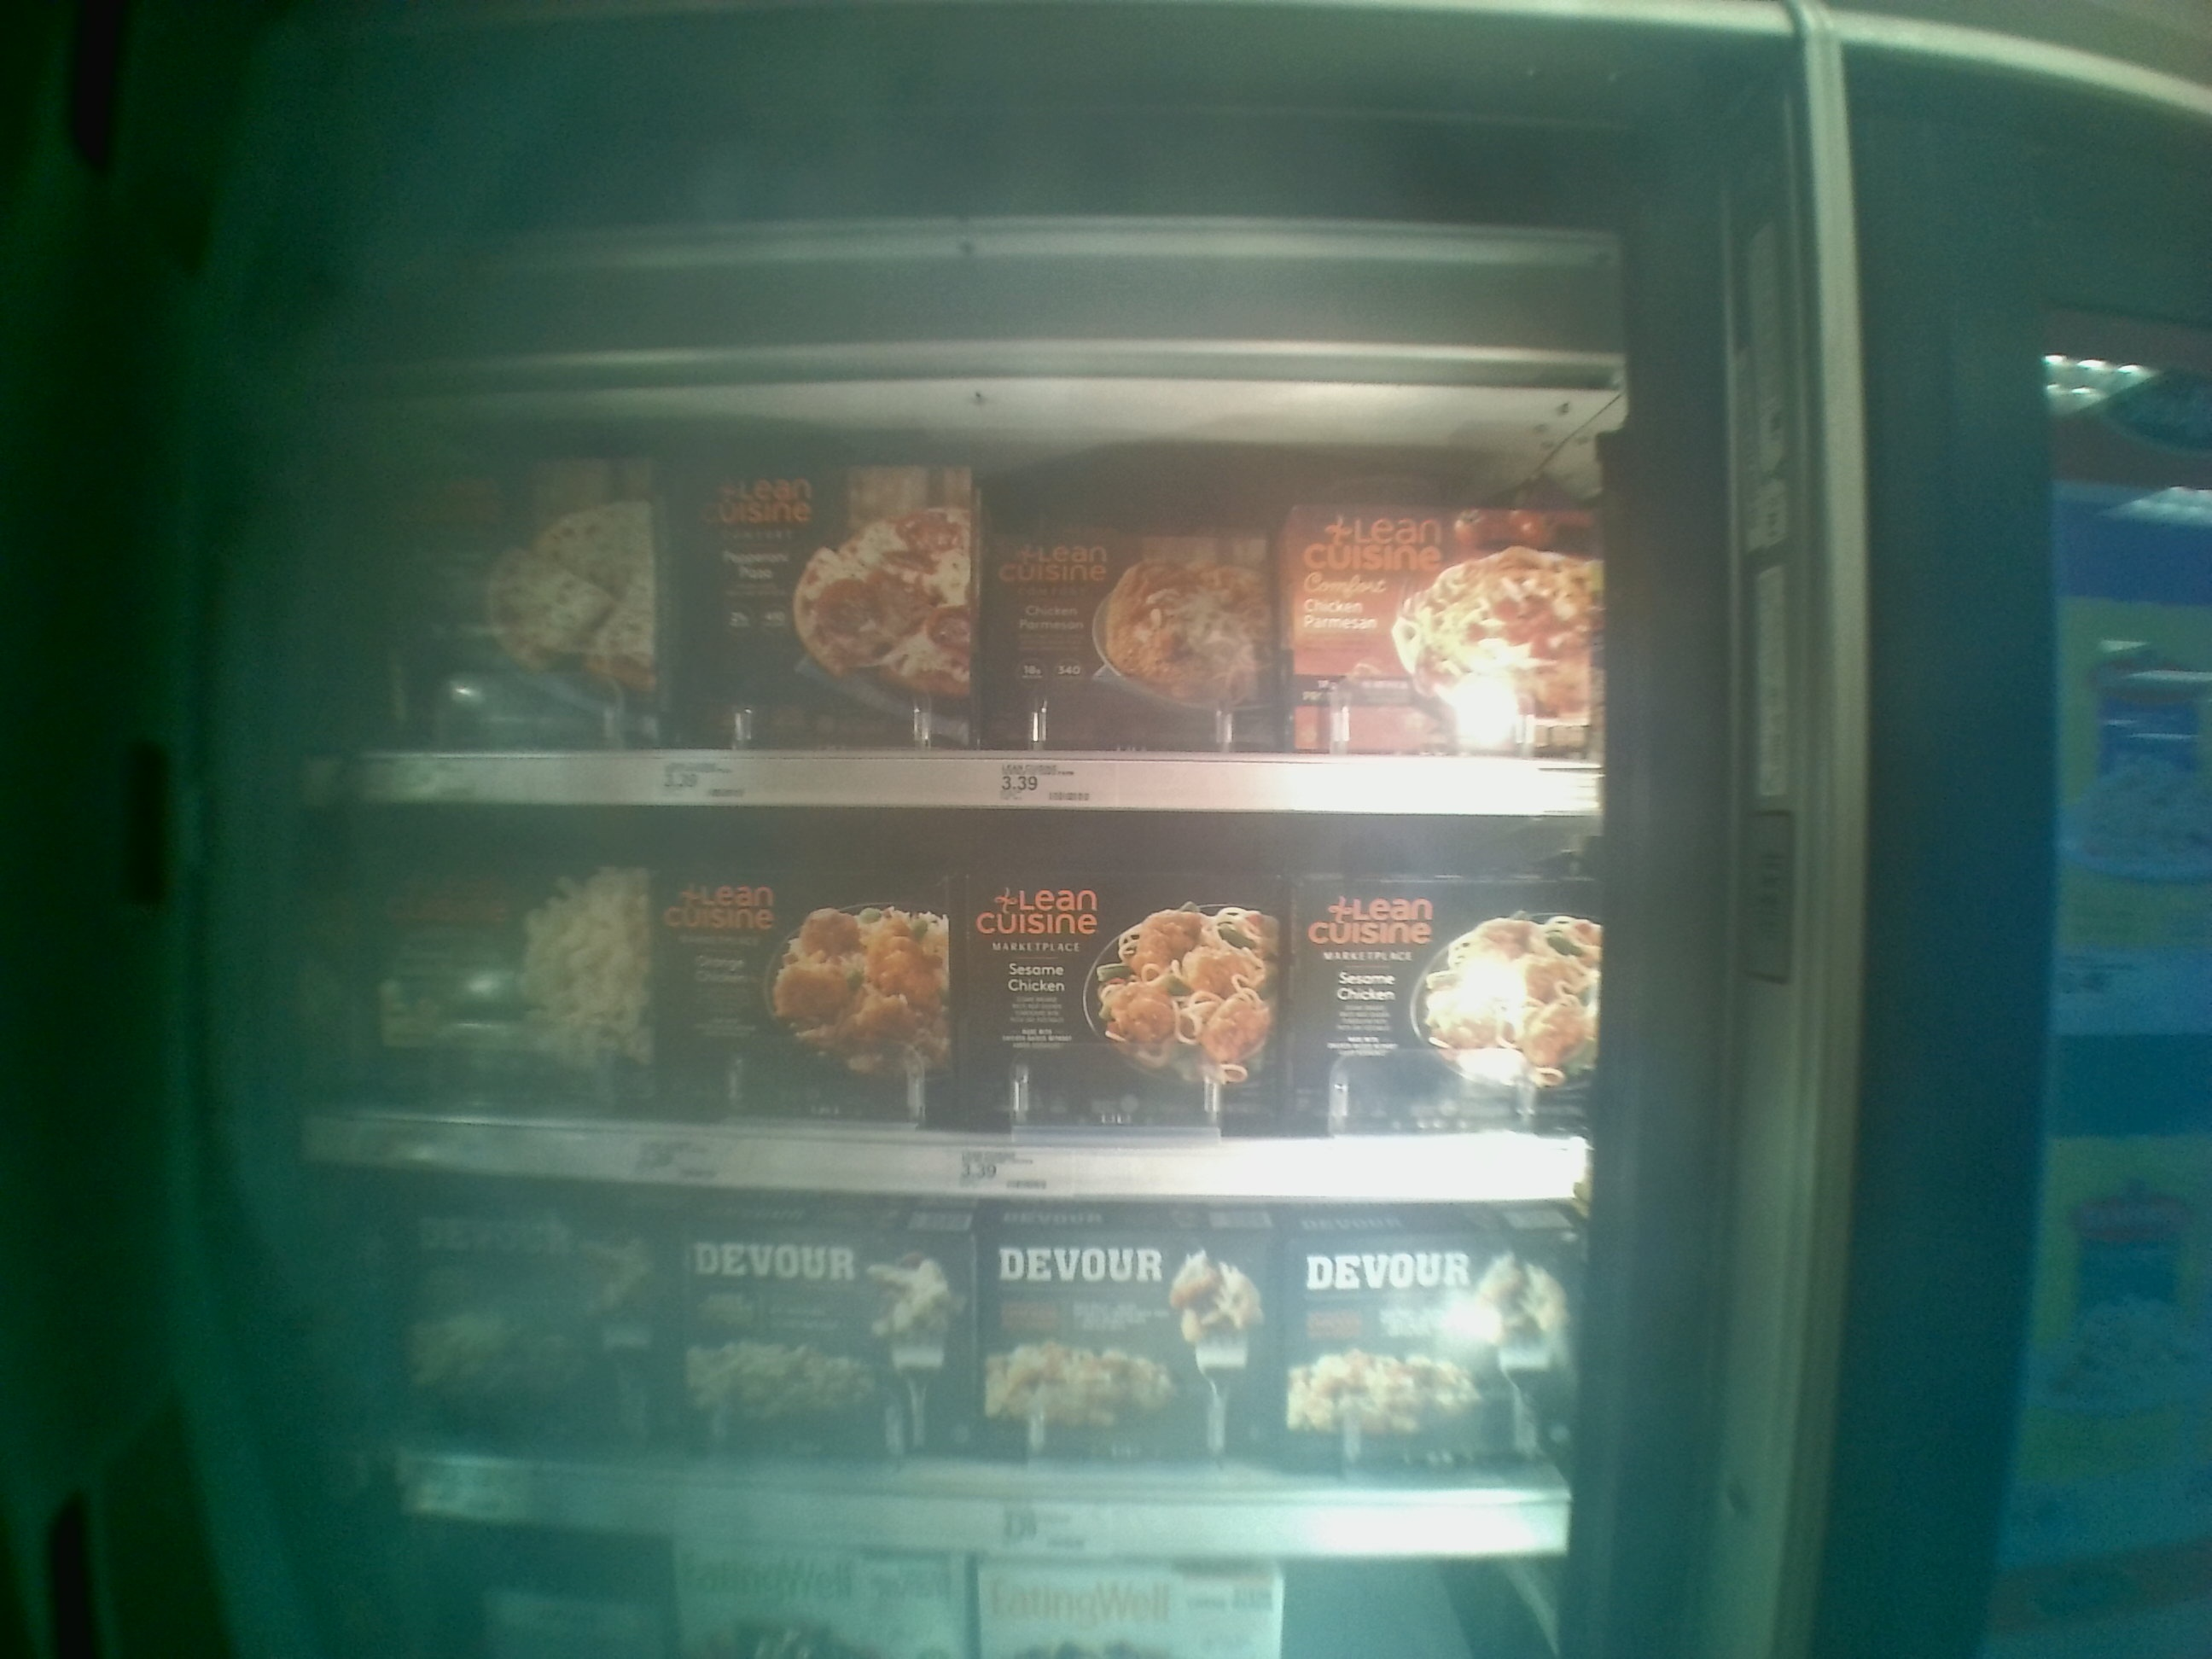pizza: (688, 457, 988, 748), (954, 871, 1277, 1121), (653, 863, 968, 1115), (380, 462, 664, 732), (1280, 505, 1597, 746), (369, 847, 648, 1108), (1277, 1234, 1576, 1466), (1301, 885, 1601, 1114), (685, 1220, 974, 1446), (993, 523, 1277, 746), (988, 1220, 1259, 1450), (420, 1211, 672, 1441)
